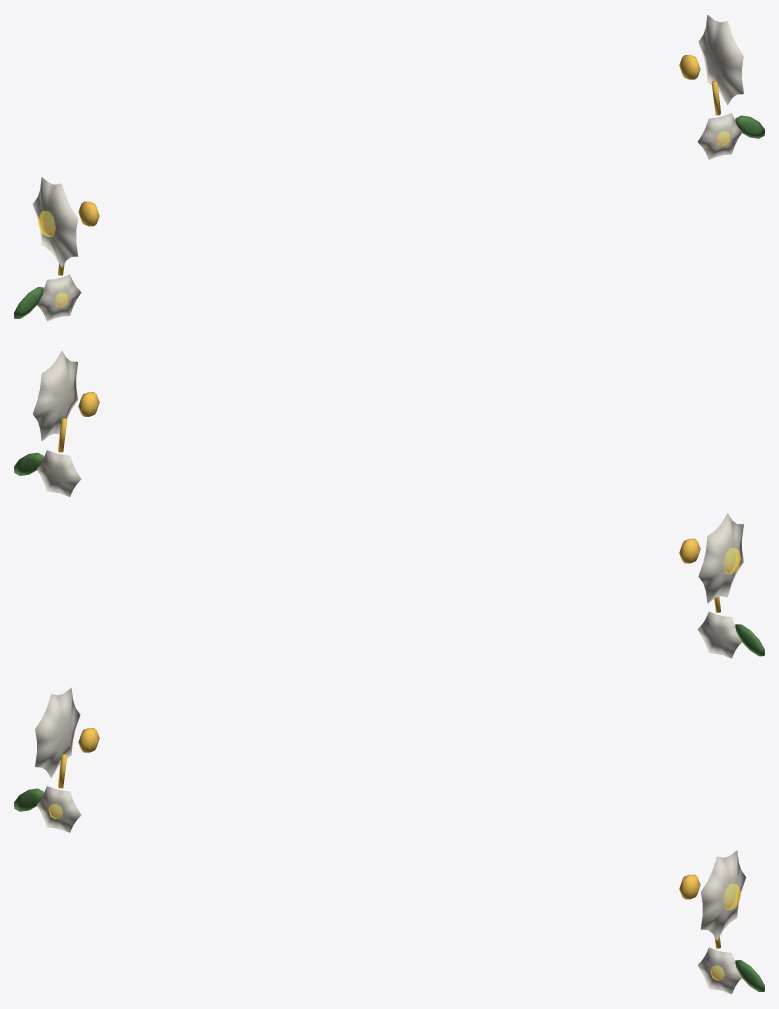
File: flower_earrings.glb
3 views of the same model, one above another, from view 1: azimuth 30°, elevation 25°; view 2: azimuth 150°, elevation 25°; view 3: azimuth 330°, elevation 25° (orthographic).
Parts seen in each view (by area): view 1: flower_earrings; view 2: flower_earrings; view 3: flower_earrings.
Part boxes in pixels (box(x1,y1,x2,y2)): flower_earrings: box(14, 14, 764, 321); flower_earrings: box(14, 351, 764, 658); flower_earrings: box(14, 687, 764, 994).
Size of the model in its own units: 0.2564 by 0.0456 by 0.0269.
